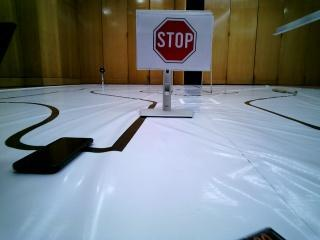stop: (142, 12, 207, 75)
